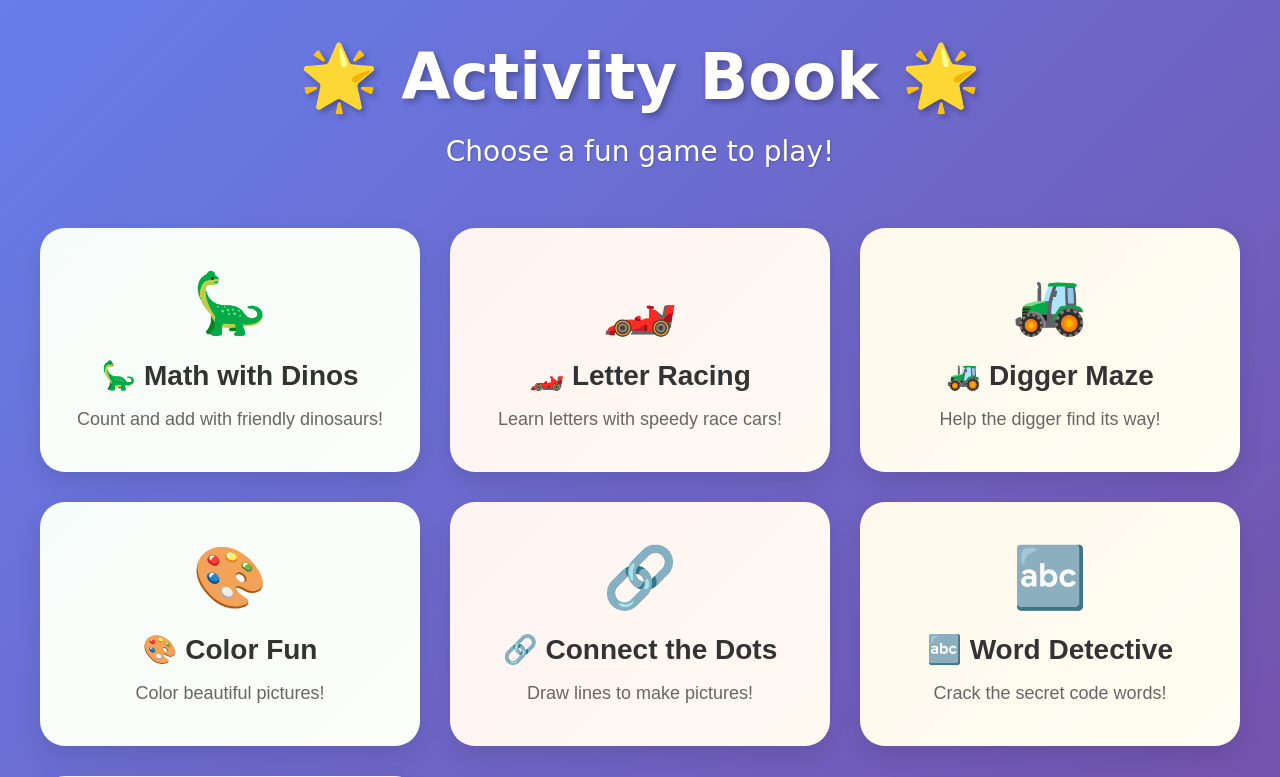
Test case: App Component › back button returns to main menu
Click the heading "🦕 Math with Dinos": (230, 376) [101, 359, 359, 392]
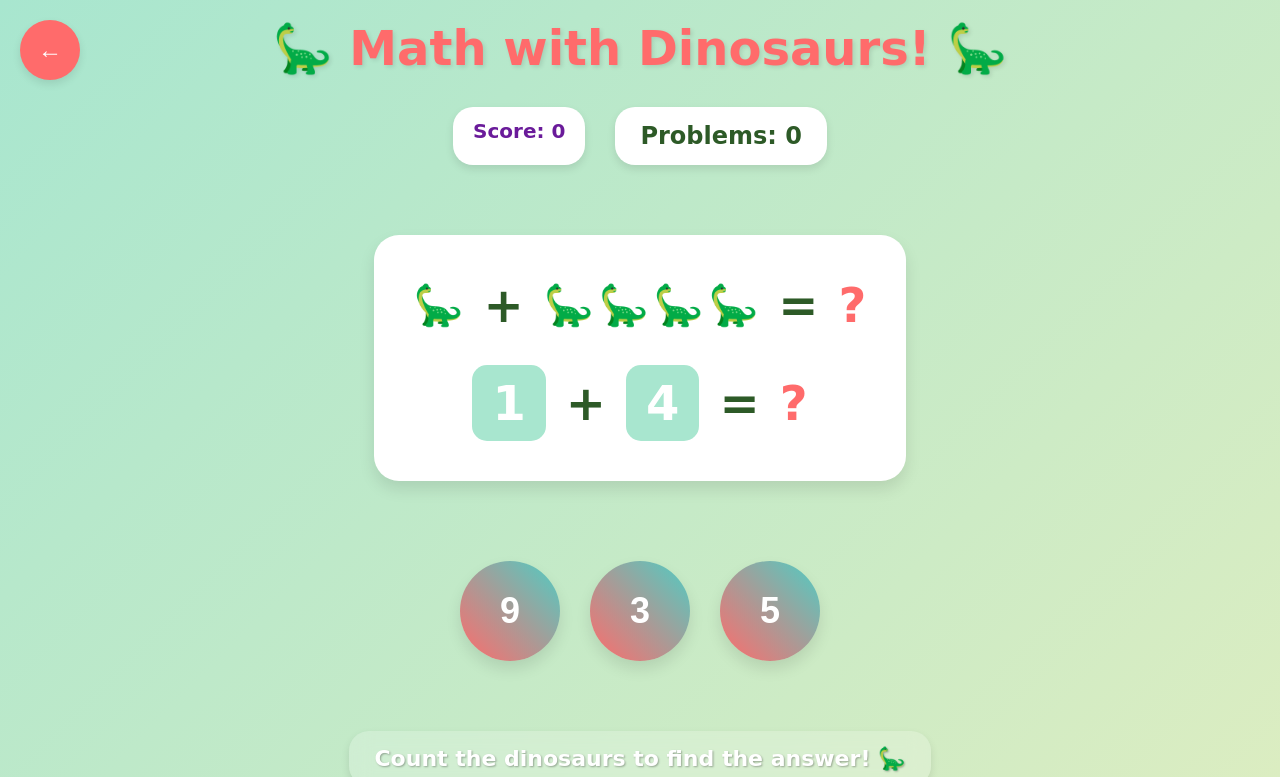
Click the button "←": (50, 50) [20, 20, 80, 80]
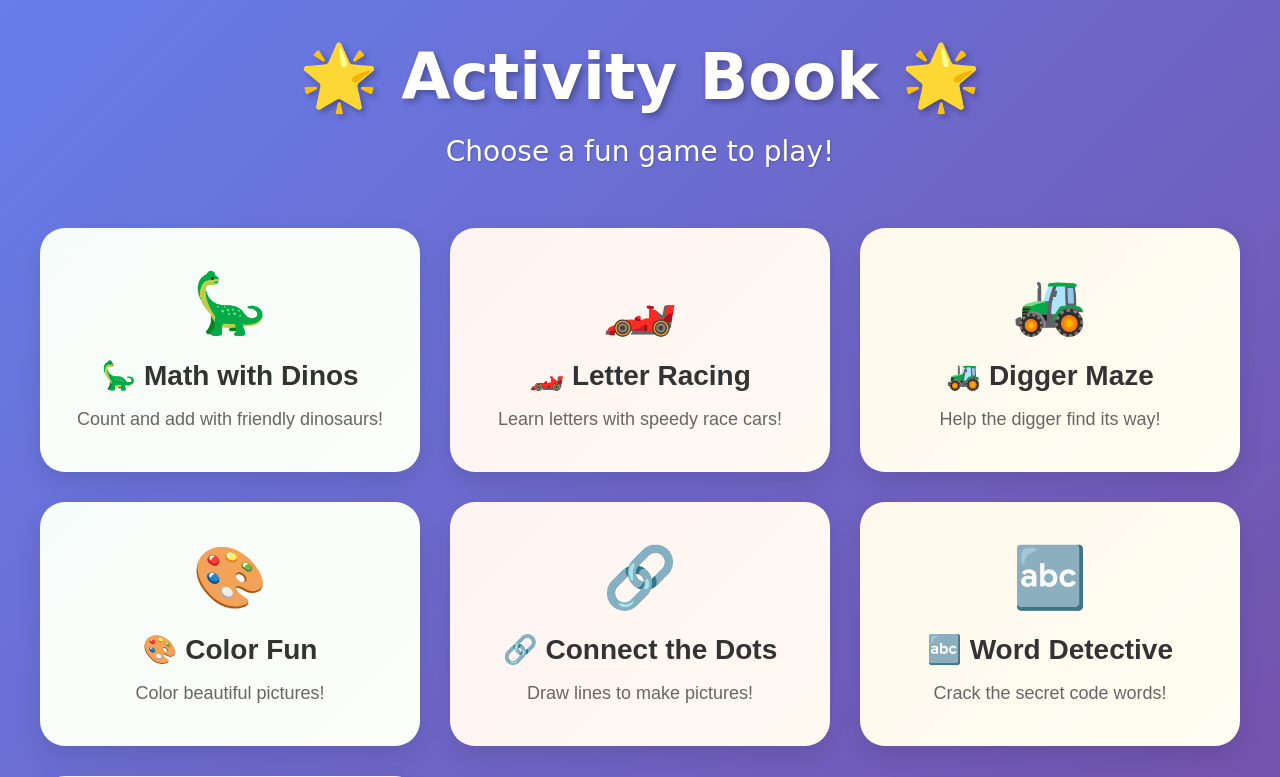
Expected: the heading "🌟 Activity Book 🌟" is shown, [299, 40, 981, 115]
